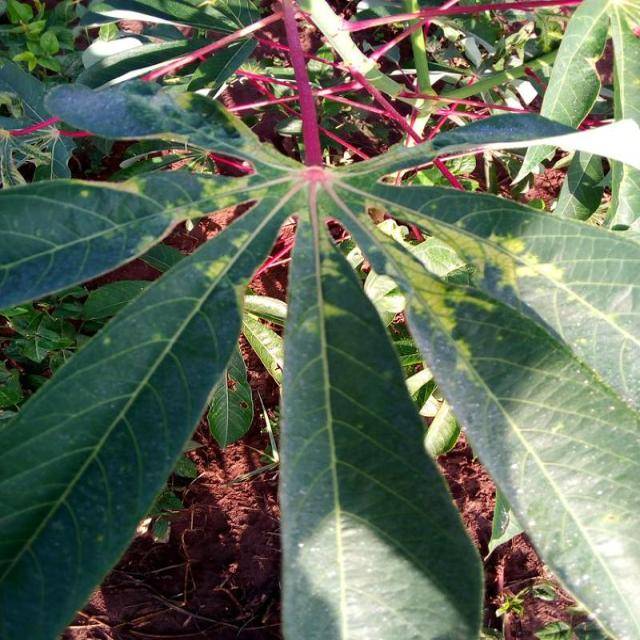cassava leaf: (1, 2, 638, 638), (340, 178, 639, 638), (277, 188, 485, 638)
